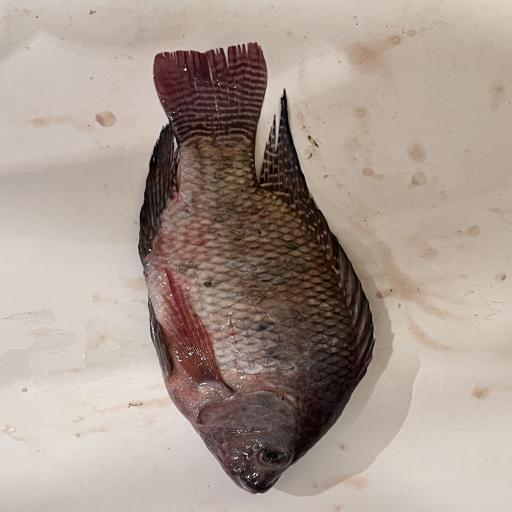Tilapia: (138, 42, 377, 495)
